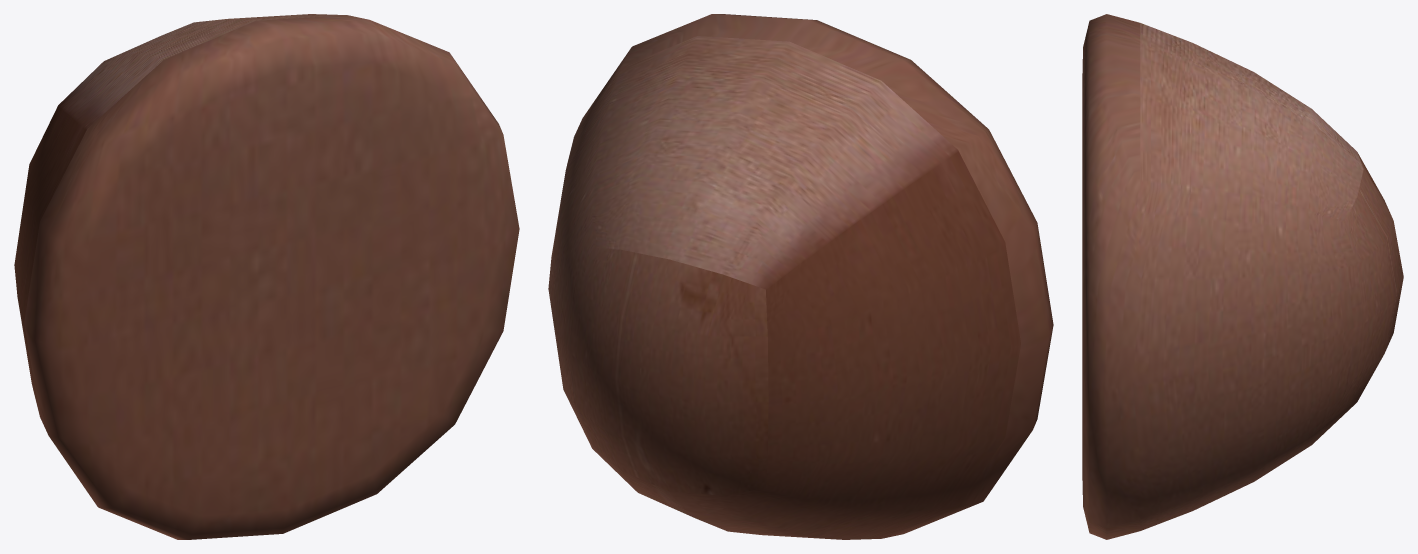
The model's file is chipas.fbx.
3 views of the same model, side by side, from view 1: azimuth 30°, elevation 25°; view 2: azimuth 150°, elevation 25°; view 3: azimuth 270°, elevation 25° (orthographic). The views are drawn at different scales.
Visible parts, largest first — view 1: Cube; view 2: Cube; view 3: Cube.
Part boxes in pixels (x1=…): Cube: x1=14, y1=14, x2=519, y2=539; Cube: x1=548, y1=14, x2=1053, y2=539; Cube: x1=1082, y1=14, x2=1403, y2=539.
Bounding box in the file's own units: 1.7 × 1.7 × 1.05.
Materials: 1 (1 with a texture image).
